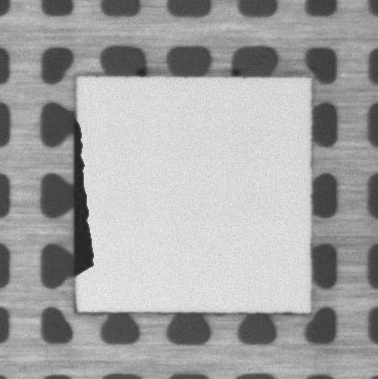DIE_BROKEN: (71, 115, 96, 277)
